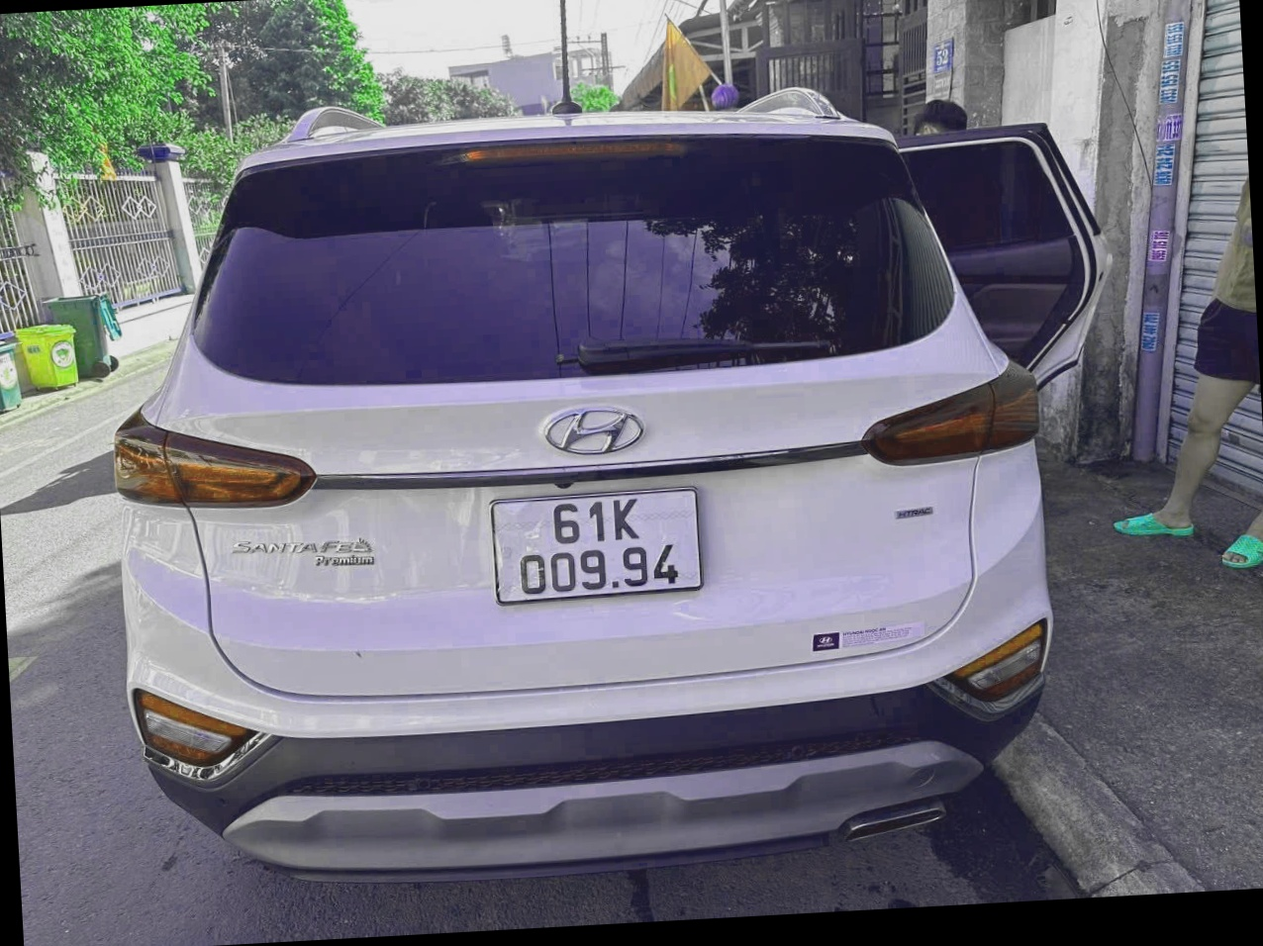Bien-so: (512, 519, 743, 664)
